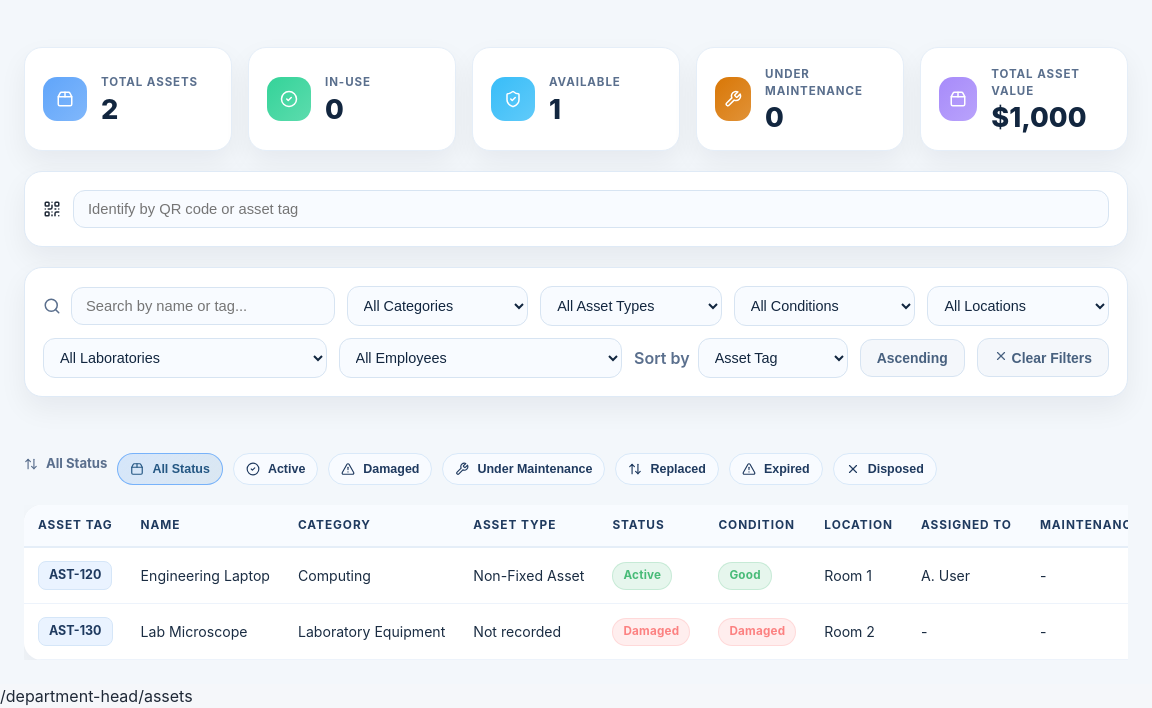
Test: Department Assets › preserves leap-day purchase dates from date-only API values
(page scrolled)
Click the text "Engineering Laptop": [205, 576] box [127,547,284,604]
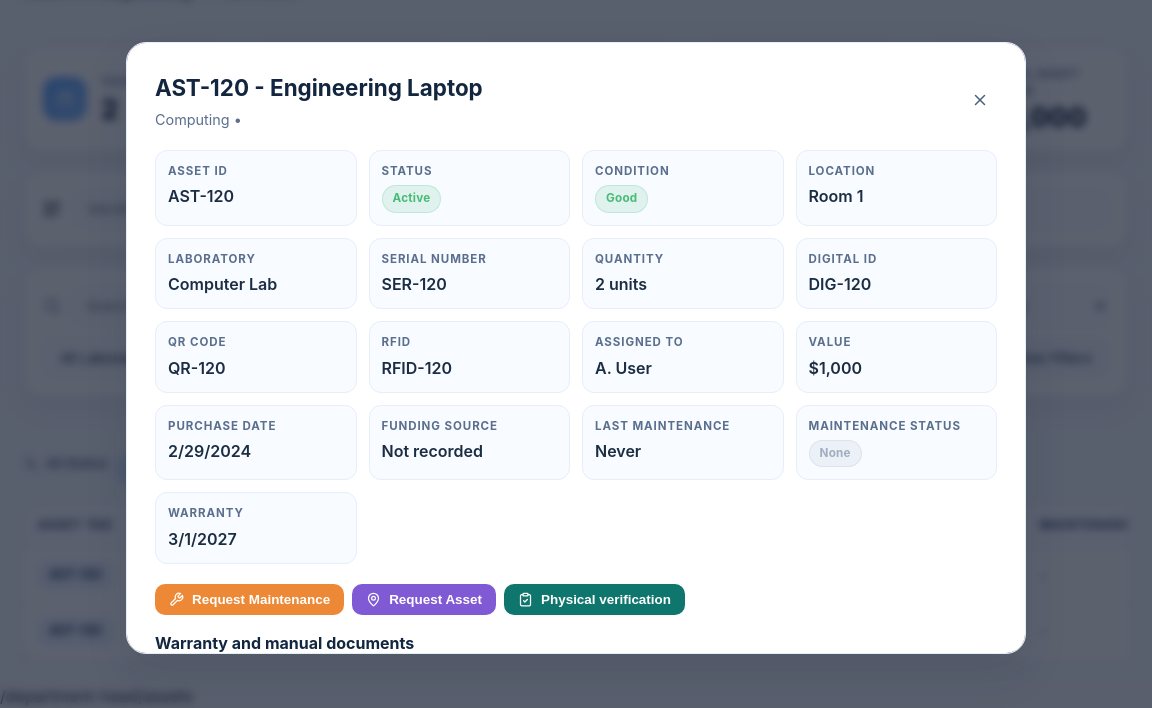
expect the text "QR-120" is shown: met, box [168,358,226,378]
